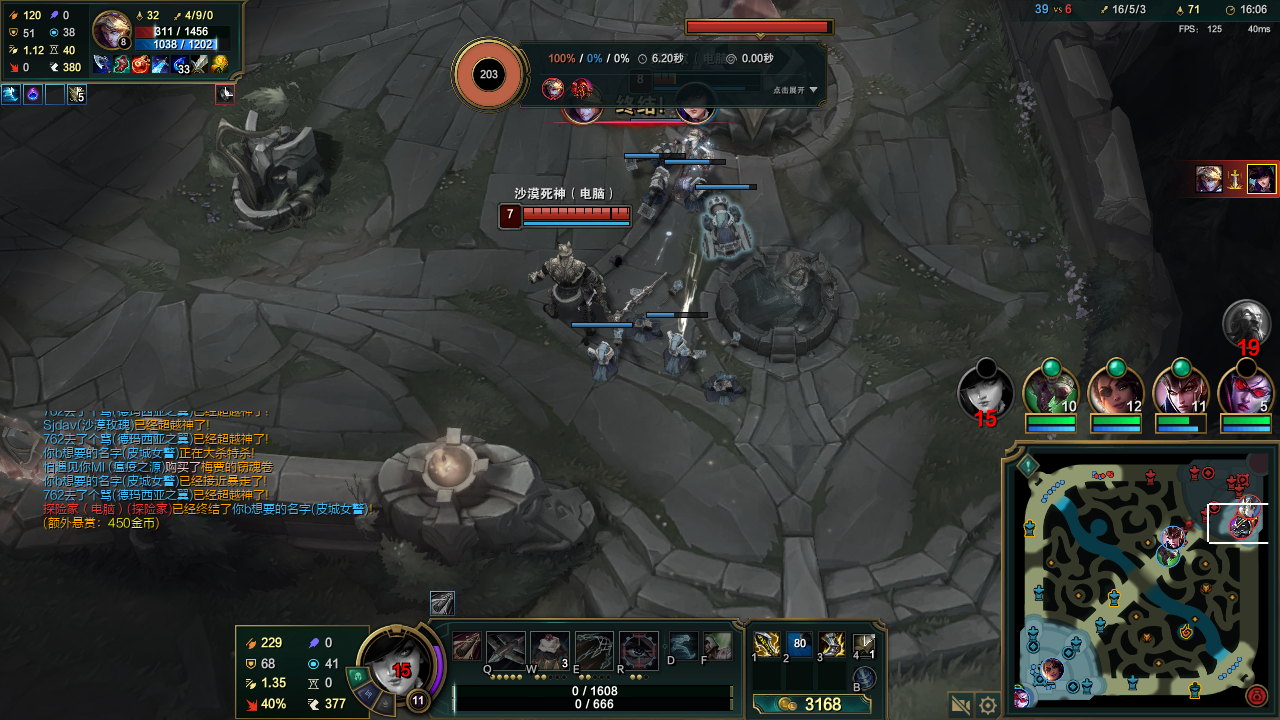DFYX: (524, 208, 633, 223)
